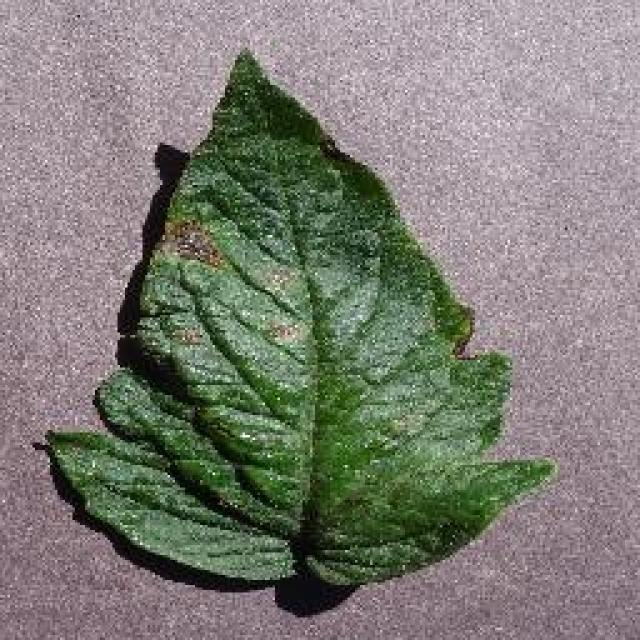Tomato___Early_blight: (40, 49, 562, 587)
